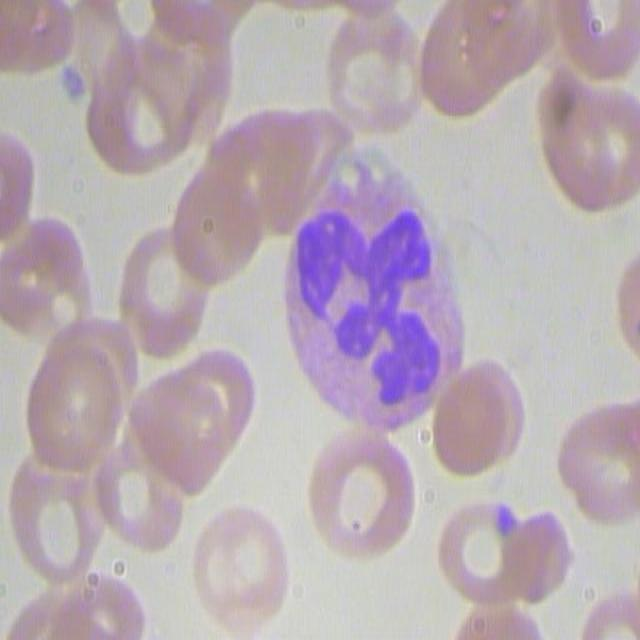RBC: (84, 22, 205, 181), (124, 340, 249, 492), (24, 317, 133, 480), (304, 414, 414, 567), (532, 77, 638, 212), (323, 0, 422, 143), (187, 505, 291, 634), (410, 1, 520, 119), (424, 353, 529, 476), (166, 158, 266, 287), (0, 209, 93, 343), (88, 430, 185, 558), (14, 454, 102, 592), (434, 495, 528, 616), (557, 395, 640, 532), (122, 230, 210, 353), (542, 0, 640, 91), (27, 568, 149, 640), (0, 0, 75, 76), (103, 0, 178, 63)
WBC: (289, 168, 460, 440)
platelets: (55, 61, 93, 110)
